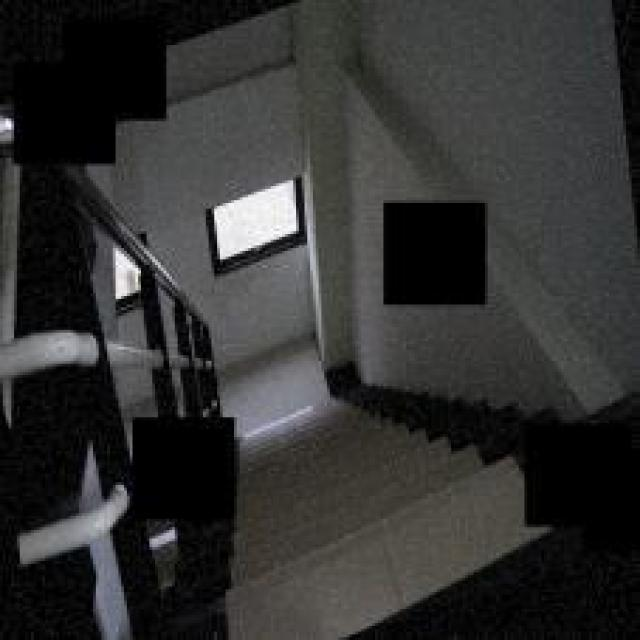downstair: (227, 379, 497, 604)
